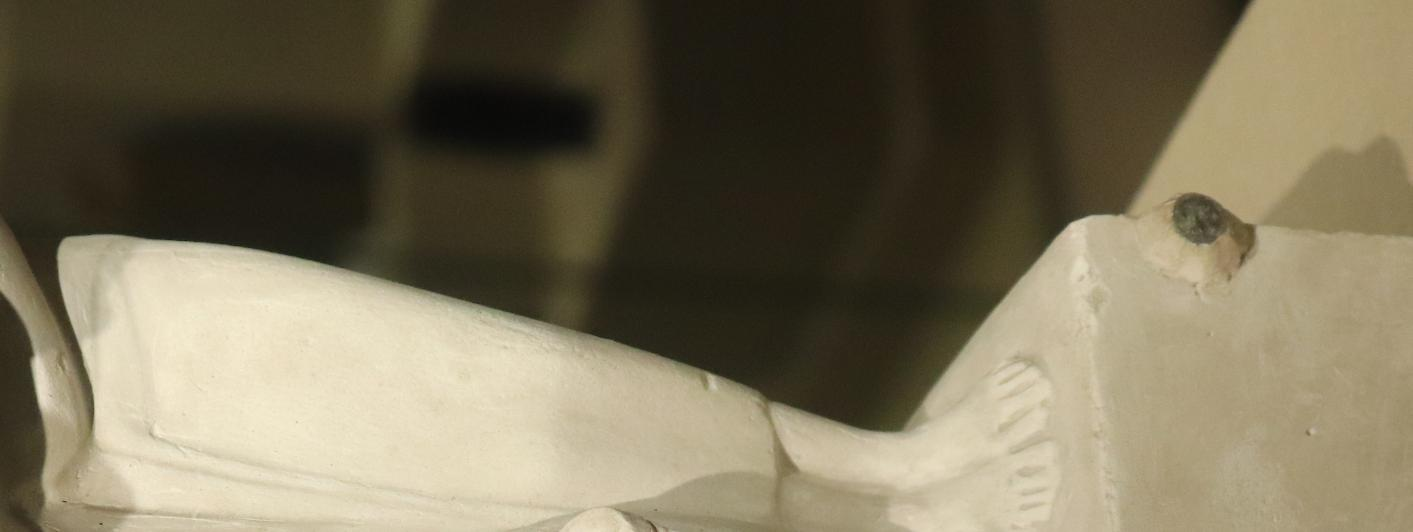the_female_peasent: (0, 0, 549, 532)
